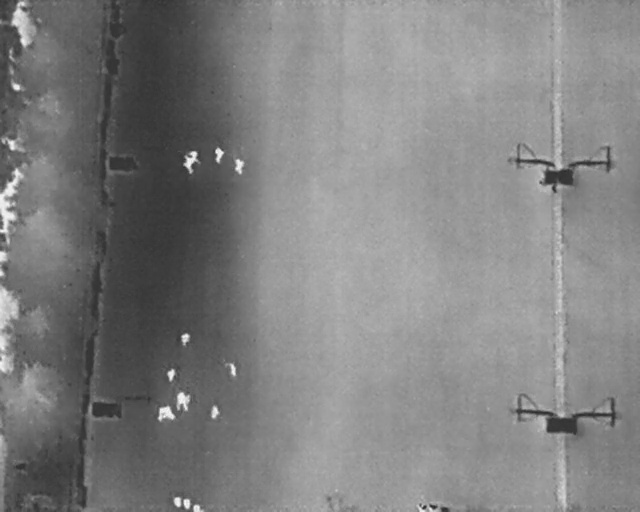Person: (174, 390, 191, 414), (156, 405, 176, 423), (223, 358, 240, 379), (207, 403, 222, 422), (182, 156, 194, 175), (164, 365, 177, 382), (179, 331, 191, 348), (214, 147, 225, 165), (187, 149, 200, 164), (234, 157, 244, 175)
